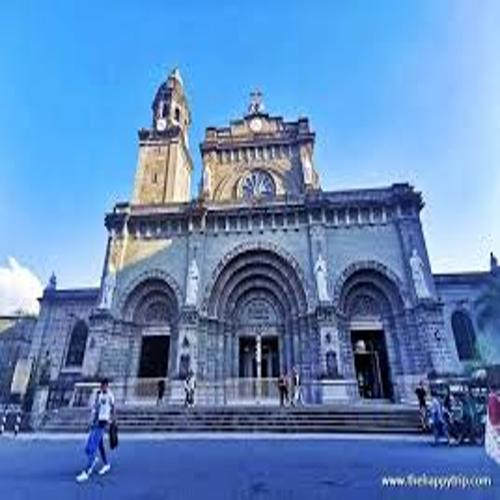Manila Cathedral Church: (42, 51, 466, 431)
